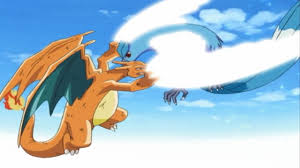charizard: (2, 27, 156, 159)
